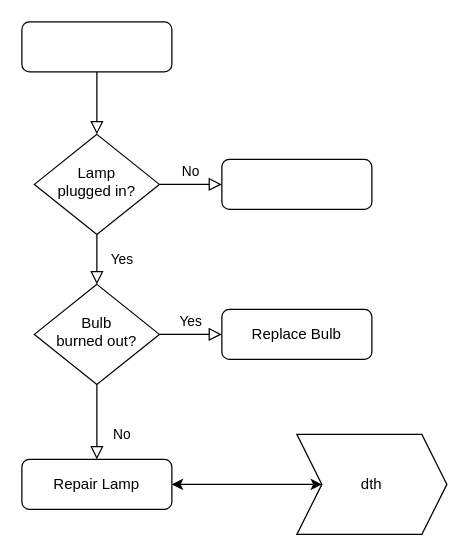
The diagram is 469 pixels wide and 556 high, and some of its shapes have lost their labels. The centre of each missing label's shape, as x and y in pixels:
cg: point 96,46
Plug in lamp: point 296,183
